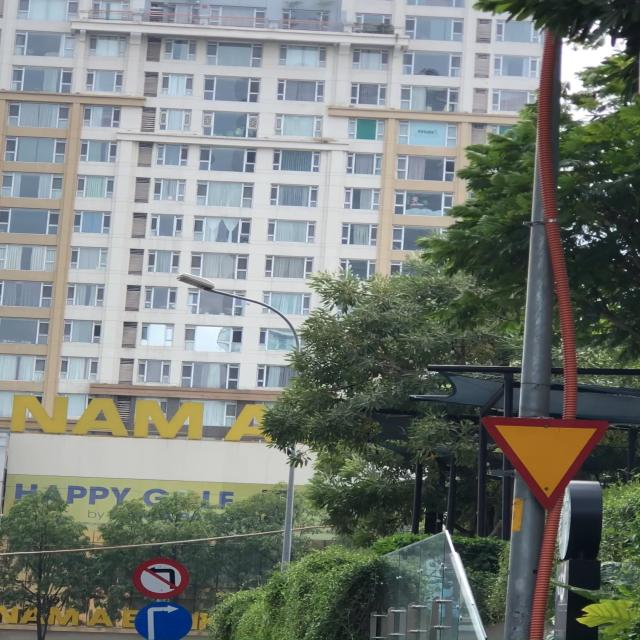Bien bao cam re trai: (131, 557, 191, 600)
Bien bao giao nhau voi duong uu tien: (478, 412, 612, 513)
Bien bao huong di phai theo: (133, 601, 194, 640)
